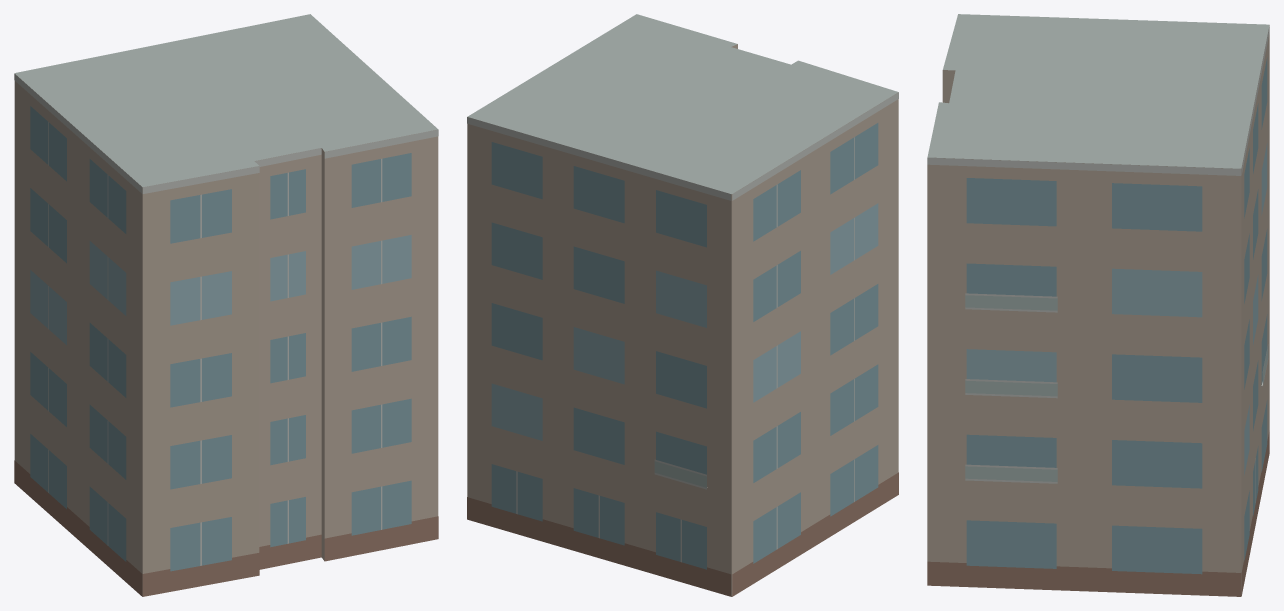
Rendered from survey-upis-32923452.glb.
The picture shows the model from 3 angles, left to right: view 1: azimuth 30°, elevation 25°; view 2: azimuth 150°, elevation 25°; view 3: azimuth 270°, elevation 25°; orthographic projection. The views are drawn at different scales.
Parts seen in each view (by area): view 1: survey-upis-32923452.tmp; view 2: survey-upis-32923452.tmp; view 3: survey-upis-32923452.tmp.
Boxes of the visible parts, x1,y1,x2,y2 form: survey-upis-32923452.tmp: (14, 14, 438, 596); survey-upis-32923452.tmp: (467, 14, 898, 596); survey-upis-32923452.tmp: (927, 14, 1269, 596).
Size of the model in its own units: 11.17 by 14.4 by 10.44.
